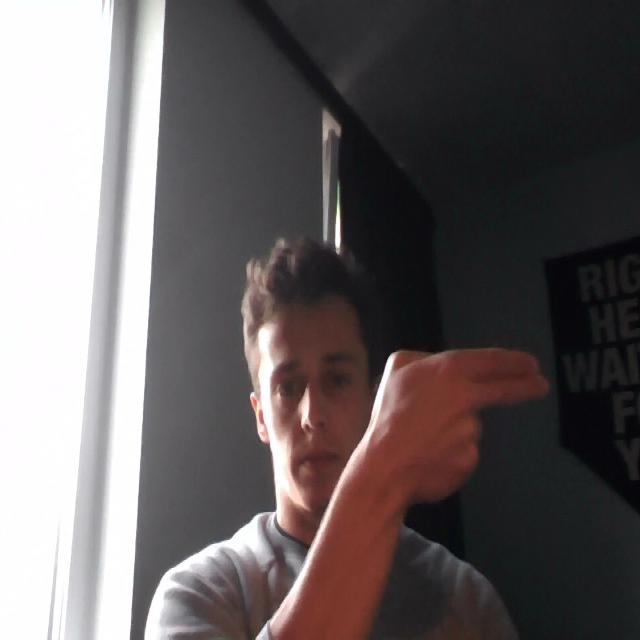right: (358, 328, 558, 528)
